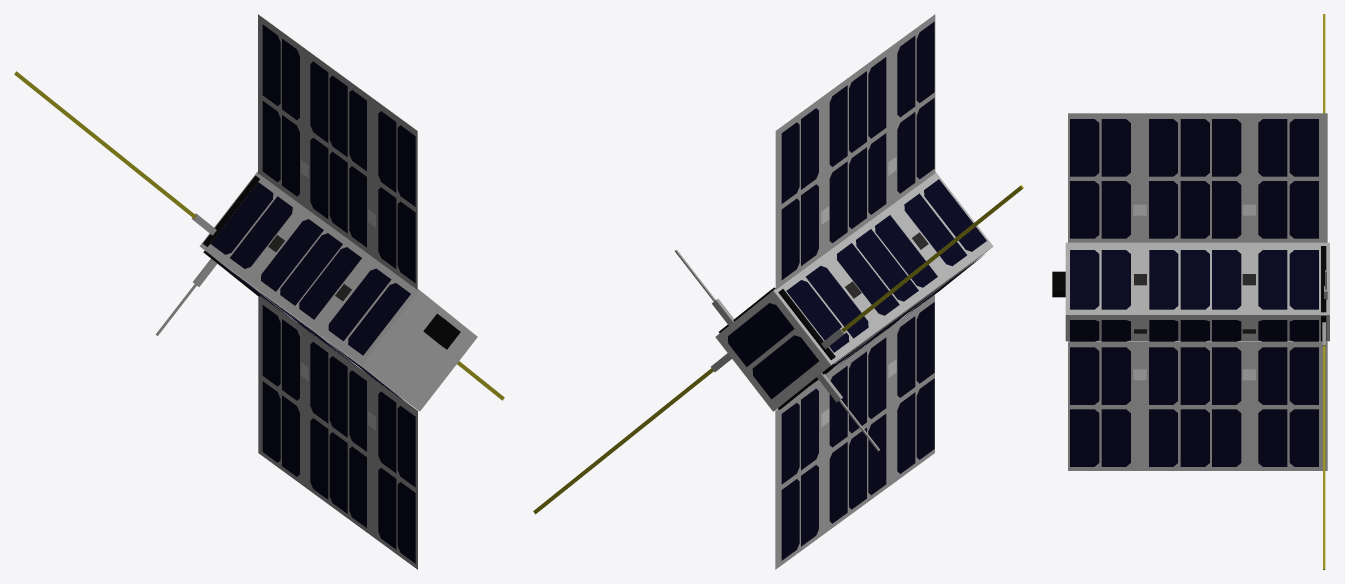
Rendered from lemur1_high.gltf.
The picture shows the model from 3 angles, left to right: view 1: azimuth 30°, elevation 25°; view 2: azimuth 150°, elevation 25°; view 3: azimuth 270°, elevation 25°; orthographic projection. The views are drawn at different scales.
Visible parts, largest first — view 1: Cube, Plane.064, Plane.069, Plane.027, Plane.037, Plane.028, Plane.033, Plane.017, Plane.025, Plane.034, Plane.104, Plane.057 (+28 smaller); view 2: Cube, Plane.064, Plane.069, Plane.102, Plane.140, Plane.028, Plane.027, Plane.037, Plane.017, Plane.034, Plane.025, Plane.033 (+30 smaller); view 3: Plane.142, Plane.141, Cube, Plane.001, Plane.000, Plane.005, Plane.003, Plane.002, Plane.004, Plane.006, Plane.112, Plane.113 (+35 smaller).
Part boxes in pixels (x1=…): Cube: x1=199, y1=171, x2=477, y2=411; Plane.064: x1=258, y1=14, x2=417, y2=289; Plane.069: x1=258, y1=296, x2=417, y2=569; Plane.027: x1=328, y1=268, x2=391, y2=340; Plane.037: x1=230, y1=196, x2=292, y2=268; Plane.028: x1=348, y1=283, x2=410, y2=355; Plane.033: x1=210, y1=182, x2=273, y2=254; Plane.017: x1=280, y1=233, x2=342, y2=305; Plane.025: x1=299, y1=247, x2=361, y2=319; Plane.034: x1=261, y1=219, x2=323, y2=291; Plane.104: x1=378, y1=187, x2=396, y2=268; Plane.057: x1=378, y1=111, x2=396, y2=192; Cube: x1=715, y1=172, x2=993, y2=411; Plane.064: x1=775, y1=14, x2=935, y2=289; Plane.069: x1=775, y1=294, x2=934, y2=569; Plane.102: x1=728, y1=303, x2=794, y2=366; Plane.140: x1=752, y1=335, x2=818, y2=399; Plane.028: x1=924, y1=179, x2=986, y2=251; Plane.027: x1=904, y1=193, x2=966, y2=266; Plane.037: x1=806, y1=266, x2=868, y2=338; Plane.017: x1=856, y1=229, x2=918, y2=301; Plane.034: x1=836, y1=243, x2=899, y2=315; Plane.025: x1=875, y1=215, x2=937, y2=287; Plane.033: x1=786, y1=280, x2=849, y2=352; Plane.142: x1=1068, y1=113, x2=1327, y2=242; Plane.141: x1=1068, y1=341, x2=1327, y2=470; Cube: x1=1065, y1=242, x2=1329, y2=341; Plane.001: x1=1180, y1=250, x2=1209, y2=309; Plane.000: x1=1258, y1=250, x2=1287, y2=309; Plane.005: x1=1101, y1=250, x2=1130, y2=309; Plane.003: x1=1149, y1=250, x2=1178, y2=309; Plane.002: x1=1289, y1=250, x2=1318, y2=309; Plane.004: x1=1212, y1=250, x2=1241, y2=309; Plane.006: x1=1070, y1=250, x2=1099, y2=309; Plane.112: x1=1180, y1=181, x2=1209, y2=238; Plane.113: x1=1101, y1=181, x2=1130, y2=238.
Bounding box in the file's own units: 11.94 × 10.41 × 7.22.
